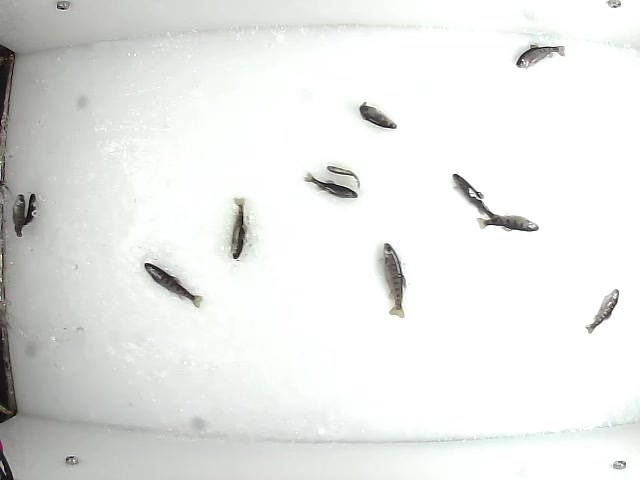fish: (141, 262, 204, 308), (451, 170, 495, 221), (380, 243, 407, 319), (584, 288, 620, 335), (302, 171, 358, 200), (228, 194, 250, 261), (475, 213, 539, 235), (512, 43, 567, 67), (358, 103, 398, 132), (326, 163, 365, 191), (10, 192, 27, 239), (17, 192, 36, 229)
